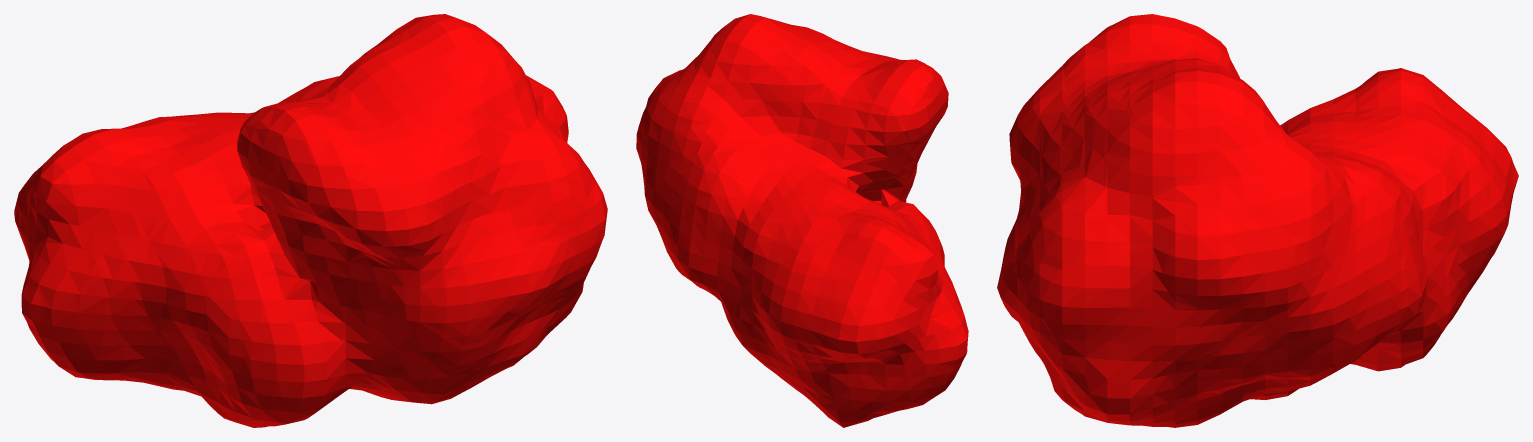
The model's file is yjjG_coarse.dae.
3 renders of one model, left to right at view 1: azimuth 30°, elevation 25°; view 2: azimuth 150°, elevation 25°; view 3: azimuth 270°, elevation 25°, orthographic. The views are drawn at different scales.
Visible parts, largest first — view 1: yjjG; view 2: yjjG; view 3: yjjG.
Part boxes in pixels (<box>): yjjG: <box>14,14,607,427</box>; yjjG: <box>636,14,968,427</box>; yjjG: <box>997,14,1518,427</box>.
Bounding box in the file's own units: 56.83 × 44.37 × 52.08.
